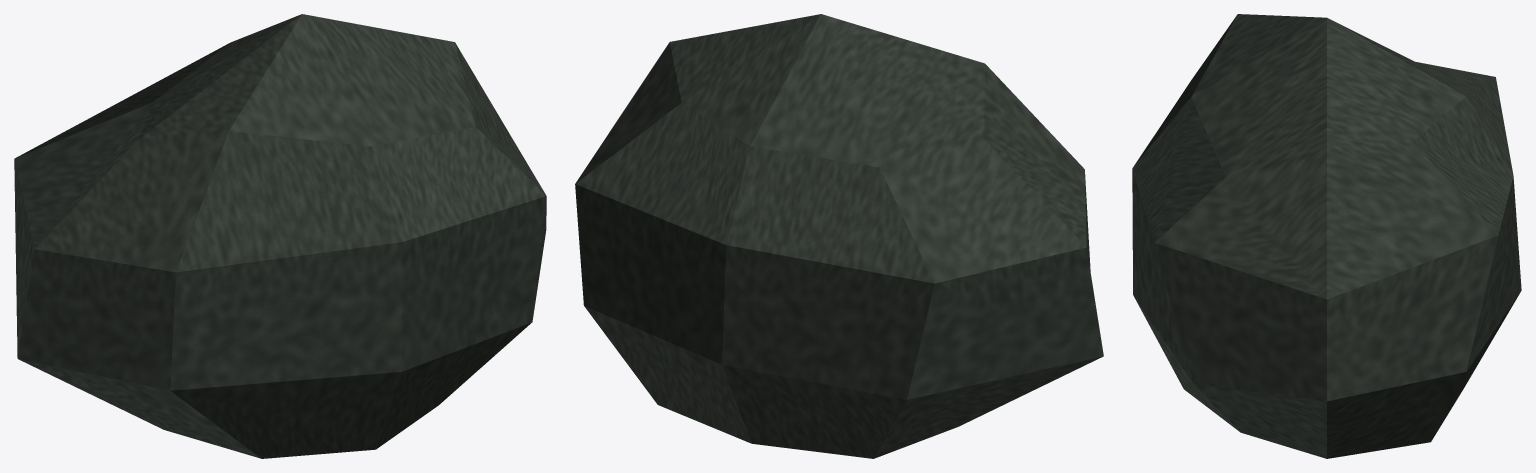
The model's file is Rock_04.glb.
3 renders of one model, left to right at view 1: azimuth 30°, elevation 25°; view 2: azimuth 150°, elevation 25°; view 3: azimuth 270°, elevation 25°, orthographic. The views are drawn at different scales.
Visible parts, largest first — view 1: Rock_04; view 2: Rock_04; view 3: Rock_04.
Part boxes in pixels (left/top/right/bottom): Rock_04: left=14, top=14, right=546, bottom=458; Rock_04: left=575, top=14, right=1103, bottom=458; Rock_04: left=1132, top=14, right=1521, bottom=458.
Size of the model in its own units: 2.02 by 1.41 by 1.32.
1 material, 1 textured.
